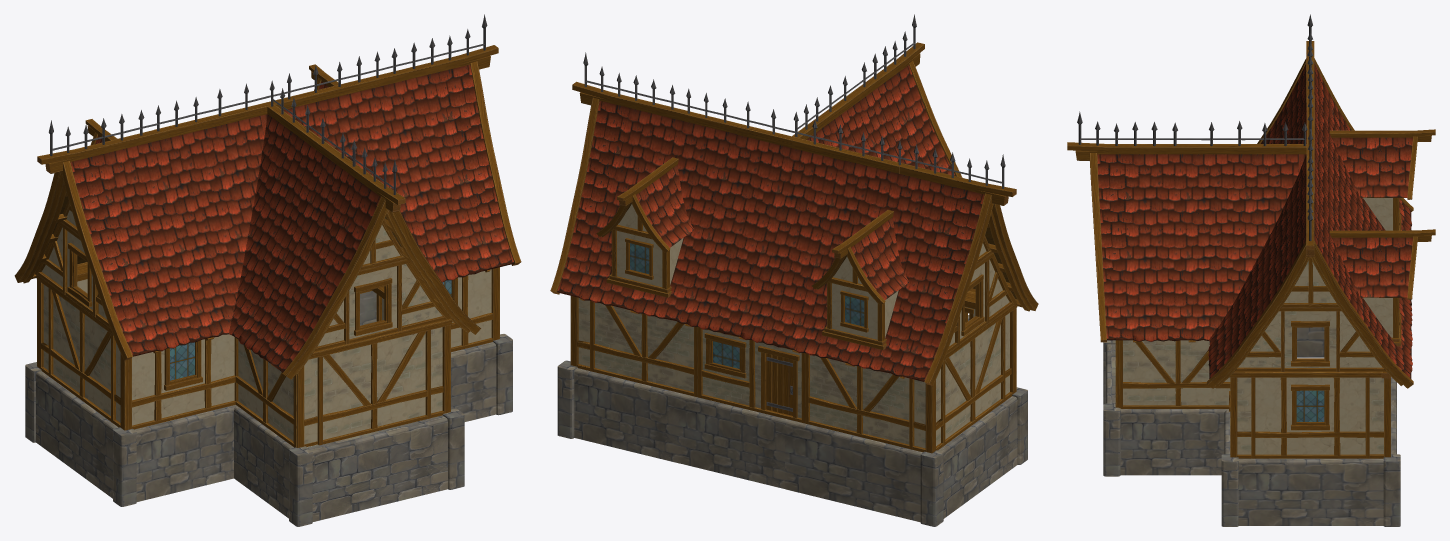
The model's file is house_2x2_03.gltf.
3 views of the same model, side by side, from view 1: azimuth 30°, elevation 25°; view 2: azimuth 150°, elevation 25°; view 3: azimuth 270°, elevation 25° (orthographic). The views are drawn at different scales.
Parts seen in each view (by area): view 1: House_2x2_03; view 2: House_2x2_03; view 3: House_2x2_03.
Part boxes in pixels (box(x1,y1,x2,y2)): House_2x2_03: box(14, 14, 521, 526); House_2x2_03: box(550, 14, 1038, 526); House_2x2_03: box(1067, 14, 1435, 526).
Size of the model in its own units: 20.47 by 15.29 by 15.59.
9 materials, 9 textured.
